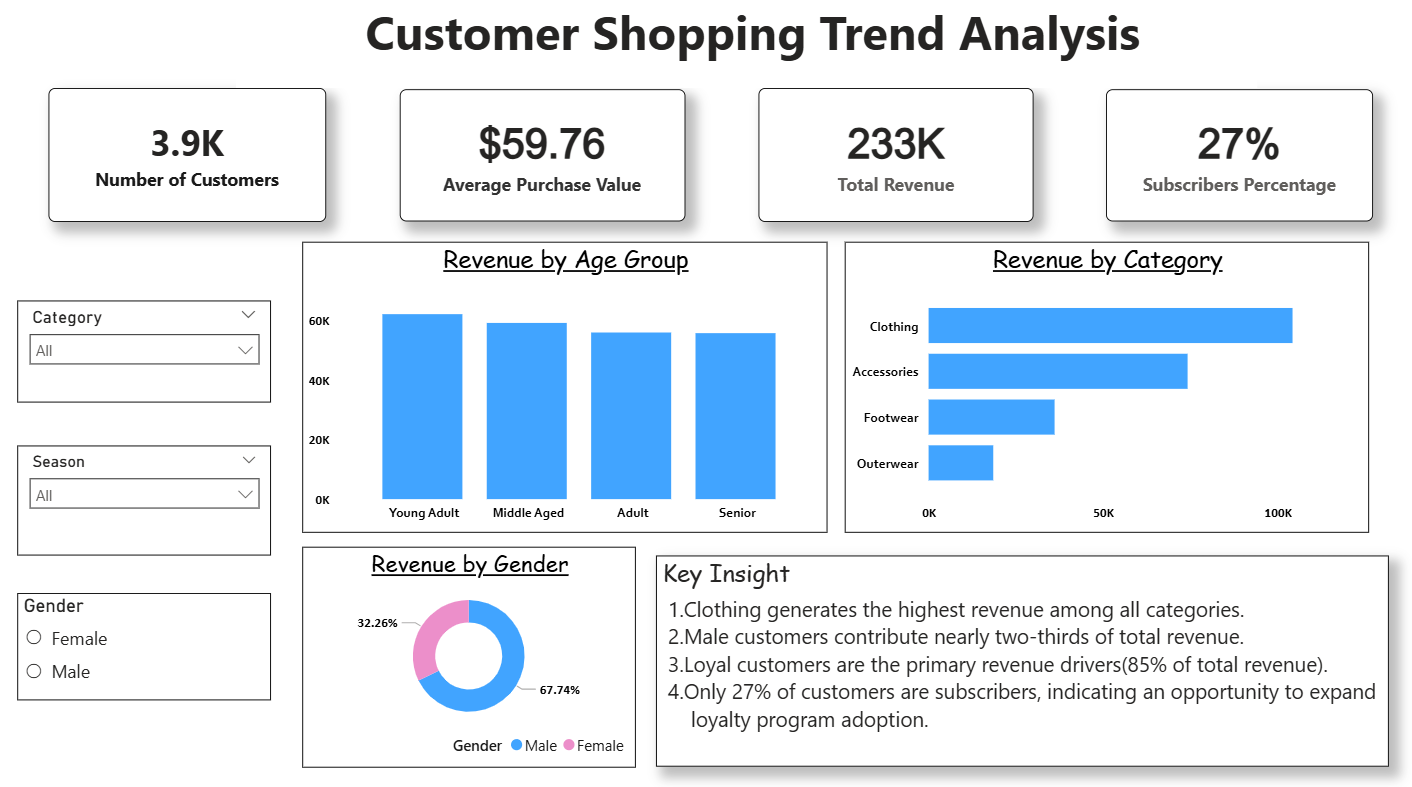

Layout of this report page (visuals, bound fields, positions):
{"tool":"powerbi","page":{"name":"Page 1","canvas":[1280,720],"ordinal":0},"visuals":[{"type":"cardVisual","fields":{"Data":["customer.Average Purchase amount"]},"box":[364.4,87.3,257.7,119.2],"z":0},{"type":"cardVisual","fields":{"Data":["customer.Number of customer"]},"box":[47.1,85.9,250.8,120.5],"z":1000},{"type":"cardVisual","fields":{"Data":["customer.Total Revenue"]},"box":[687.3,85.9,248,120.5],"z":2000},{"type":"cardVisual","fields":{"Data":["customer.Subscribers Percentage"]},"box":[1000.4,87.3,241.1,119.2],"z":3000},{"type":"clusteredBarChart","title":"Revenue by Category","fields":{"Category":["customer.category"],"Y":["customer.Total Revenue"]},"box":[765,223.9,472.7,262.5],"z":4000},{"type":"donutChart","title":" Revenue by Gender","fields":{"Category":["customer.gender"],"Y":["customer.Total Revenue"]},"box":[276.2,498.8,301,199],"z":5000},{"type":"columnChart","title":"Revenue by Age Group","fields":{"Category":["customer.age_group"],"Y":["customer.Total Revenue"]},"box":[276.2,223.9,473.9,262.5],"z":6000},{"type":"textbox","box":[216.4,0,920.5,85.8],"z":7000},{"type":"textbox","title":"Key Insight","box":[594.6,507.5,660.5,190.3],"z":8000},{"type":"listSlicer","title":"Gender","fields":{"Values":["customer.gender"]},"box":[18.7,541.1,228.9,97],"z":9000},{"type":"slicer","fields":{"Values":["customer.category"]},"box":[18.7,277.4,228.9,92.1],"z":10000},{"type":"slicer","fields":{"Values":["customer.season"]},"box":[18.7,408,228.9,99.5],"z":11000}]}

Visuals, with their boxes in screenshot pixels (x1, y1, x2, y2), scaled from the page's 1280x720 canvas onto the 1412x787 screenshot:
cardVisual - customer.Average Purchase amount: bbox(402, 95, 686, 226)
cardVisual - customer.Number of customer: bbox(52, 94, 329, 226)
cardVisual - customer.Total Revenue: bbox(758, 94, 1032, 226)
cardVisual - customer.Subscribers Percentage: bbox(1104, 95, 1370, 226)
"Revenue by Category" clusteredBarChart: bbox(844, 245, 1365, 532)
" Revenue by Gender" donutChart: bbox(305, 545, 637, 763)
"Revenue by Age Group" columnChart: bbox(305, 245, 827, 532)
textbox: bbox(239, 0, 1254, 94)
"Key Insight" textbox: bbox(656, 555, 1385, 763)
"Gender" listSlicer: bbox(21, 591, 273, 697)
slicer - customer.category: bbox(21, 303, 273, 404)
slicer - customer.season: bbox(21, 446, 273, 555)
